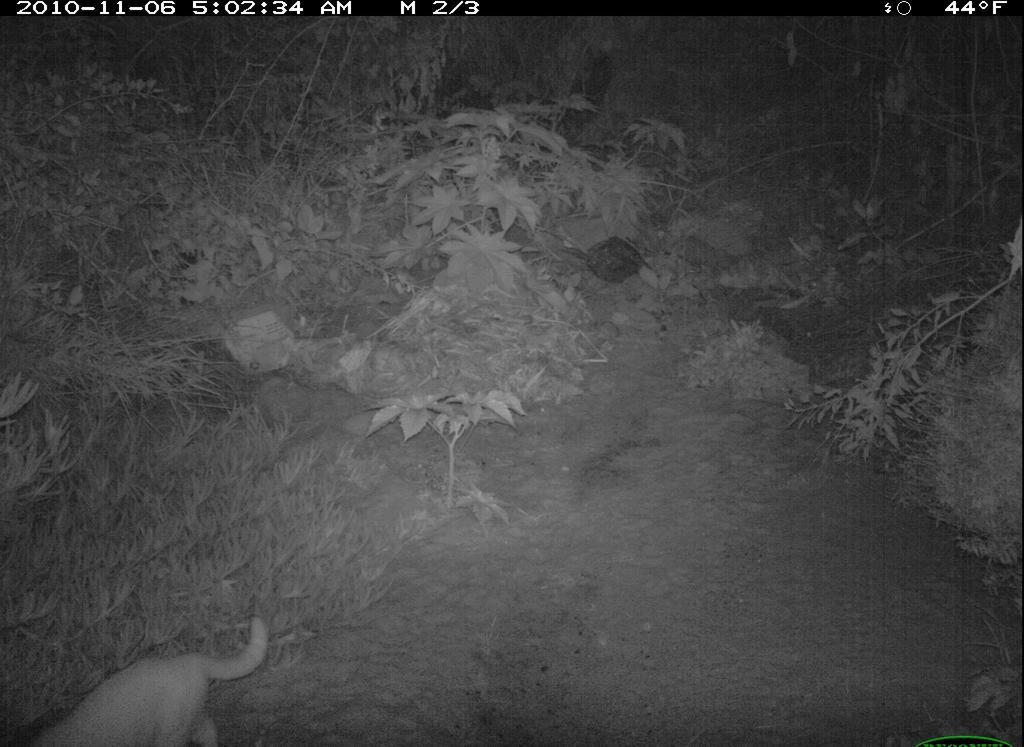cat: (15, 617, 277, 747)
